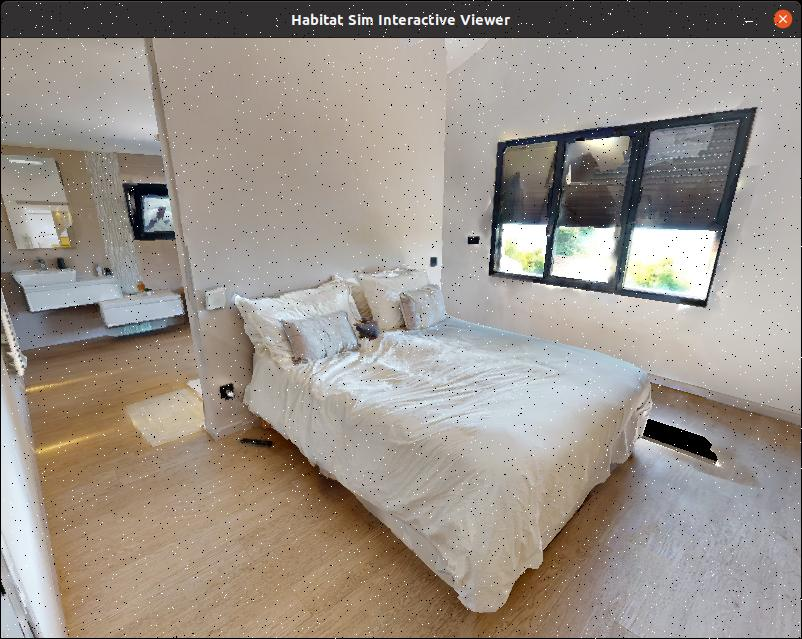bed: (235, 261, 644, 608)
door-frame: (0, 40, 242, 444)
